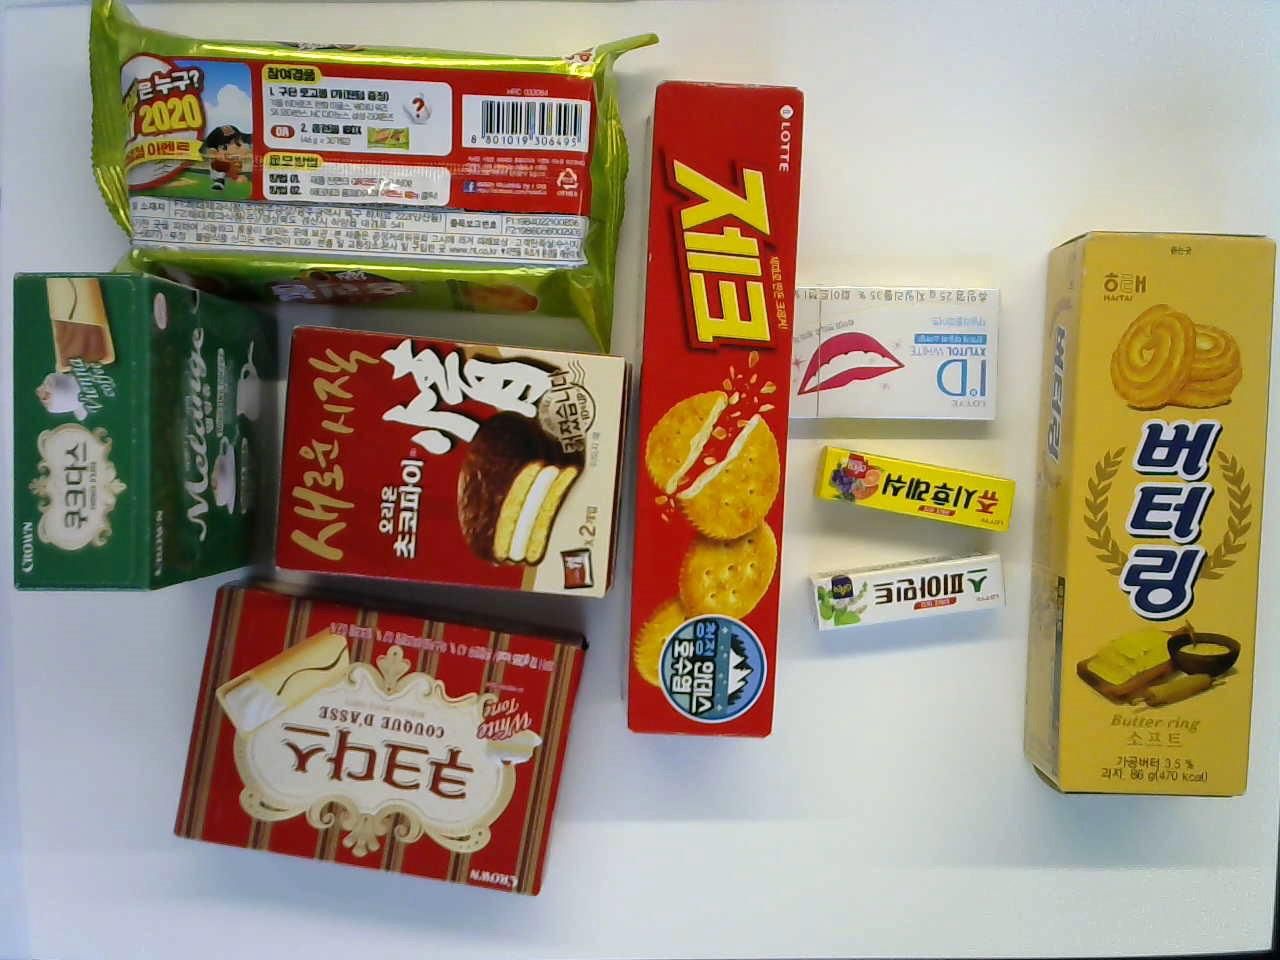ID_gum: (788, 284, 1003, 429)
buttering: (1033, 226, 1273, 805)
chocopie: (264, 328, 633, 594)
couque_coffee: (5, 265, 281, 598)
couque_white: (168, 578, 596, 897)
homerunball: (85, 10, 619, 322)
juicyfresh: (812, 443, 1024, 542)
spearmint: (803, 545, 1009, 637)
zec: (614, 79, 808, 740)
